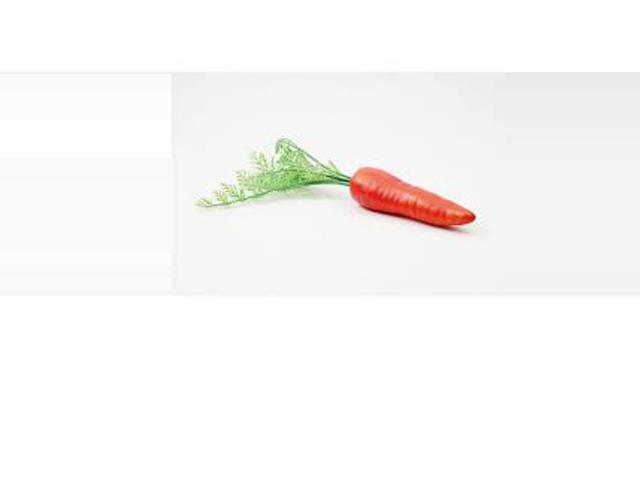carrot: (339, 162, 483, 251)
